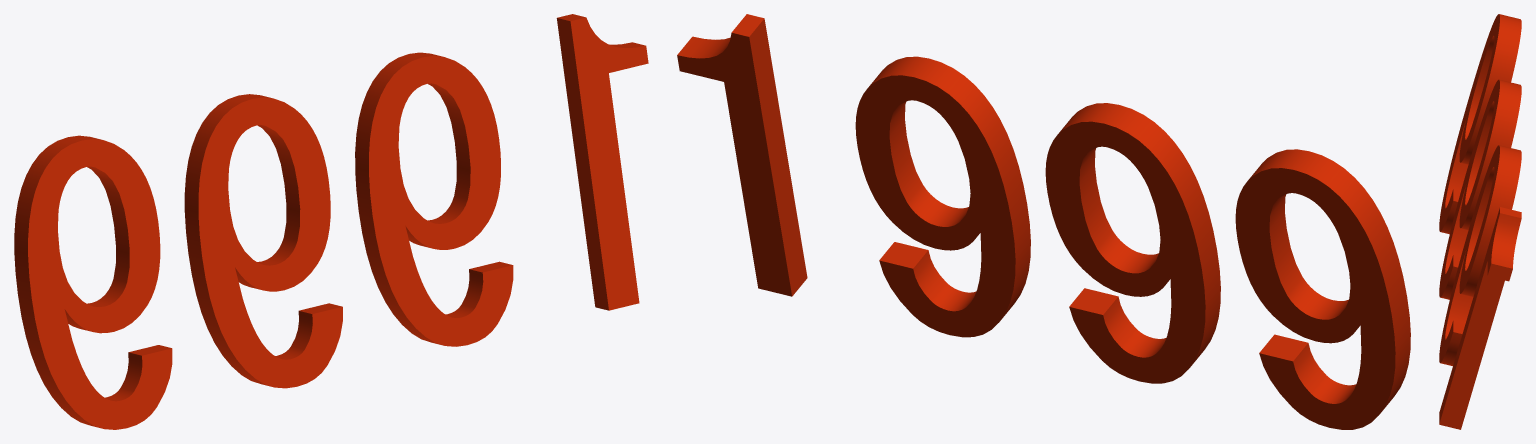
The picture shows the model from 3 angles, left to right: view 1: azimuth 30°, elevation 25°; view 2: azimuth 150°, elevation 25°; view 3: azimuth 270°, elevation 25°; orthographic projection. The views are drawn at different scales.
Visible parts, largest first — view 1: Text1999; view 2: Text1999; view 3: Text1999.
Part boxes in pixels (x1,y1,x2,y2): Text1999: (14, 14, 648, 429); Text1999: (677, 14, 1410, 429); Text1999: (1439, 14, 1521, 429).
Size of the model in its own units: 30.75 by 12.54 by 4.44.
